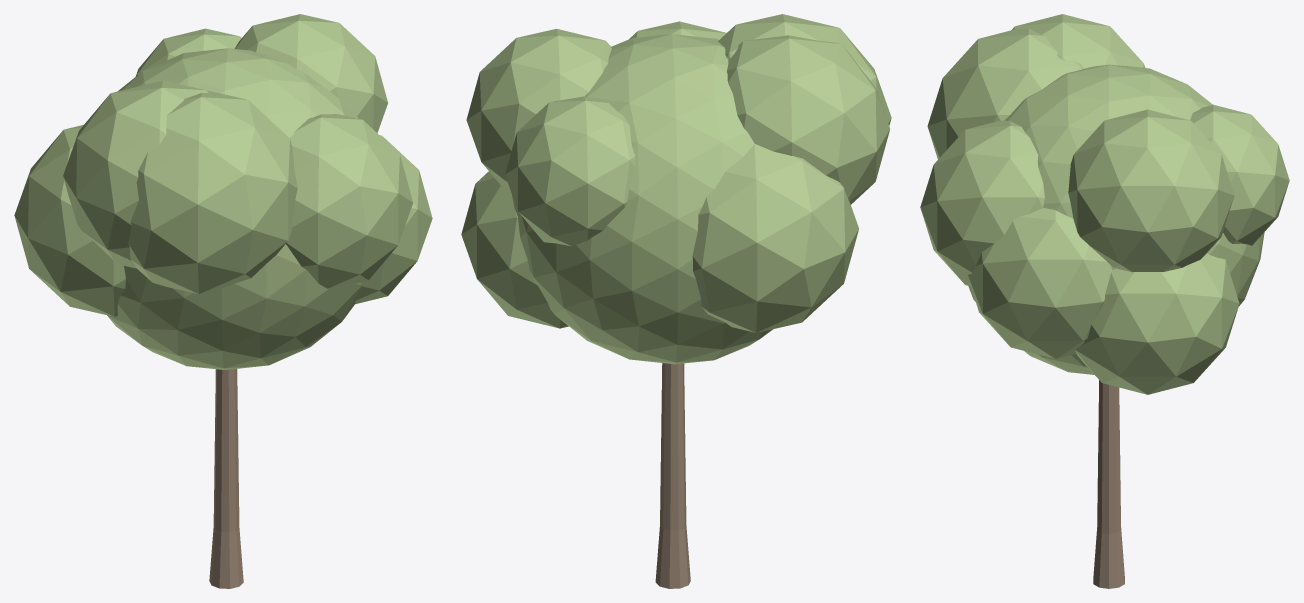
File: tree_b.glb
3 renders of one model, left to right at view 1: azimuth 30°, elevation 25°; view 2: azimuth 150°, elevation 25°; view 3: azimuth 270°, elevation 25°, orthographic. The views are drawn at different scales.
Parts seen in each view (by area): view 1: tree_b_leaf2, tree_b_bark; view 2: tree_b_leaf2, tree_b_bark; view 3: tree_b_leaf2, tree_b_bark.
Part boxes in pixels (x1=…): tree_b_leaf2: x1=14, y1=14, x2=432, y2=369; tree_b_bark: x1=209, y1=369, x2=243, y2=588; tree_b_leaf2: x1=461, y1=14, x2=891, y2=364; tree_b_bark: x1=655, y1=363, x2=690, y2=588; tree_b_leaf2: x1=920, y1=14, x2=1289, y2=394; tree_b_bark: x1=1093, y1=380, x2=1124, y2=588.
Size of the model in its own units: 3.81 by 5.44 by 3.52.
